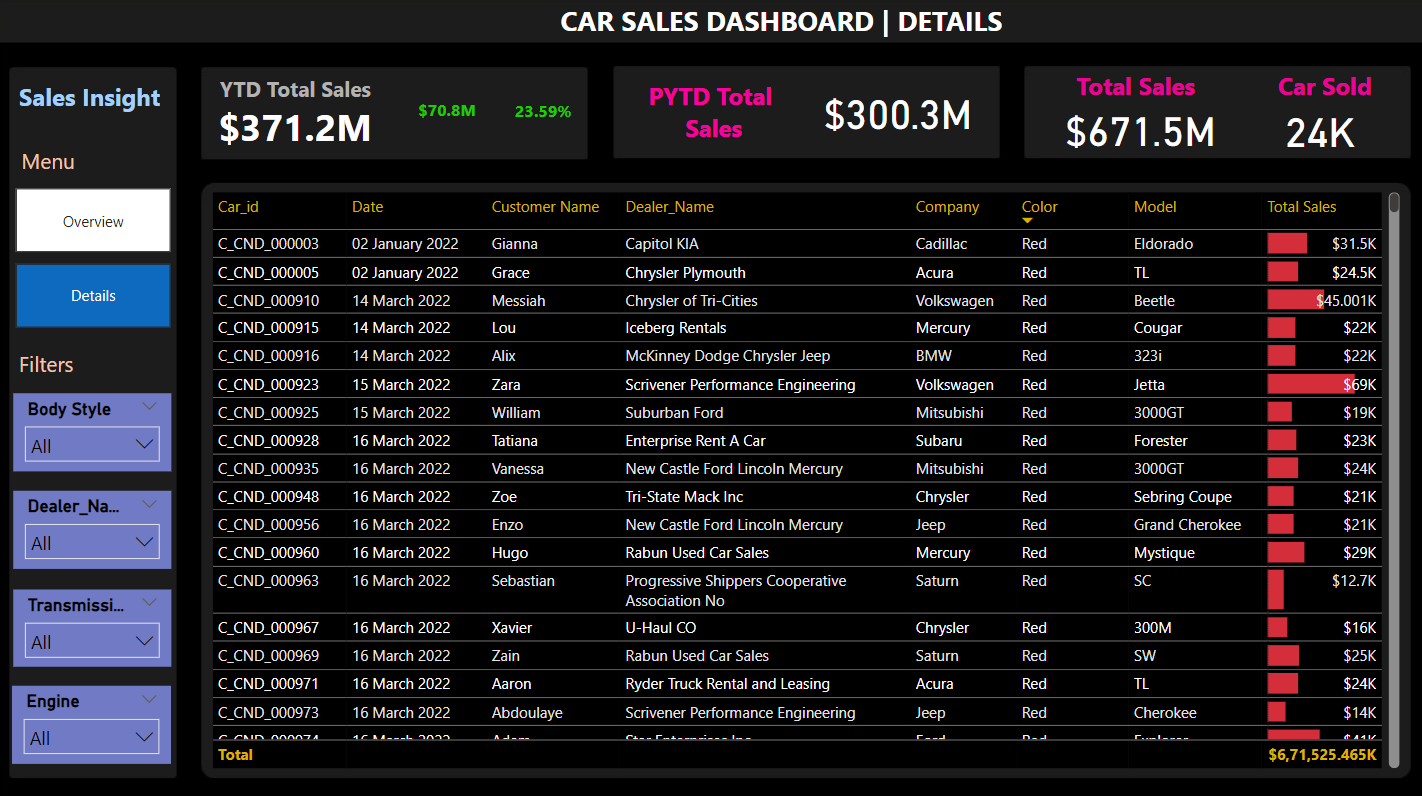

The page's visual inventory and layout, read from the dashboard file:
{"tool":"powerbi","page":{"name":"Details","canvas":[1280,720],"ordinal":1},"visuals":[{"type":"card","title":"YTD Total Sales","fields":{"Values":["car_data.YTD Total Sales"]},"box":[174.6,68.7,190.9,68.7],"z":0},{"type":"card","fields":{"Values":["car_data.YOY Sales Growth"]},"box":[444.2,81.4,94.2,44.2],"z":1000},{"type":"card","fields":{"Values":["car_data.Sales Difference"]},"box":[355.8,81.4,98.8,43],"z":2000},{"type":"textbox","box":[454.1,0,497.6,44.7],"z":3000},{"type":"slicer","fields":{"Values":["car_data.Body Style"]},"box":[18.6,352.3,140.7,69.8],"z":4000},{"type":"slicer","fields":{"Values":["car_data.Dealer_Name"]},"box":[18.6,439.5,140.7,69.8],"z":5000},{"type":"slicer","fields":{"Values":["car_data.Transmission"]},"box":[18.6,527.9,140.7,68.6],"z":6000},{"type":"slicer","fields":{"Values":["car_data.Engine"]},"box":[18.3,613.9,141.6,69.6],"z":7000},{"type":"textbox","box":[18.6,309.3,110.5,43],"z":8000},{"type":"tableEx","fields":{"Values":["car_data.Car_id","car_data.Date","car_data.Customer Name","car_data.Dealer_Name","car_data.Company","car_data.Color","car_data.Model","car_data.Price ($)"]},"box":[190.4,169.6,1067.9,522.4],"z":9000},{"type":"pageNavigator","box":[20.9,169.8,138.4,124.4],"z":10000},{"type":"textbox","box":[18.6,68.6,173.3,44.2],"z":11000},{"type":"textbox","box":[20.9,127.9,91.9,41.9],"z":12000},{"type":"card","fields":{"Values":["Measure Table.Total Sales"]},"box":[910.5,76.7,224.4,80.2],"z":13000},{"type":"card","fields":{"Values":["Measure Table.Car Sold"]},"box":[1117.4,88.4,130.2,60.5],"z":14000},{"type":"card","fields":{"Values":["Measure Table.PYTD Total Sales"]},"box":[724.4,69.8,164,64],"z":15000},{"type":"textbox","box":[960.5,59.3,140.7,48.8],"z":16000},{"type":"textbox","box":[1126.7,59.3,120.9,46.5],"z":17000},{"type":"textbox","box":[569.8,67.4,139.5,69.8],"z":18001}]}

Visuals, with their boxes in screenshot pixels (x1, y1, x2, y2), scaled from the page's 1280x720 canvas onto the 1422x796 screenshot:
"YTD Total Sales" card: x1=194 y1=76 x2=406 y2=152
card - car_data.YOY Sales Growth: x1=493 y1=90 x2=598 y2=139
card - car_data.Sales Difference: x1=395 y1=90 x2=505 y2=138
textbox: x1=504 y1=0 x2=1057 y2=49
slicer - car_data.Body Style: x1=21 y1=389 x2=177 y2=467
slicer - car_data.Dealer_Name: x1=21 y1=486 x2=177 y2=563
slicer - car_data.Transmission: x1=21 y1=584 x2=177 y2=659
slicer - car_data.Engine: x1=20 y1=679 x2=178 y2=756
textbox: x1=21 y1=342 x2=143 y2=389
tableEx - car_data.Car_id x car_data.Date: x1=212 y1=188 x2=1398 y2=765
pageNavigator: x1=23 y1=188 x2=177 y2=325
textbox: x1=21 y1=76 x2=213 y2=125
textbox: x1=23 y1=141 x2=125 y2=188
card - Measure Table.Total Sales: x1=1012 y1=85 x2=1261 y2=173
card - Measure Table.Car Sold: x1=1241 y1=98 x2=1386 y2=165
card - Measure Table.PYTD Total Sales: x1=805 y1=77 x2=987 y2=148
textbox: x1=1067 y1=66 x2=1223 y2=120
textbox: x1=1252 y1=66 x2=1386 y2=117
textbox: x1=633 y1=75 x2=788 y2=152
